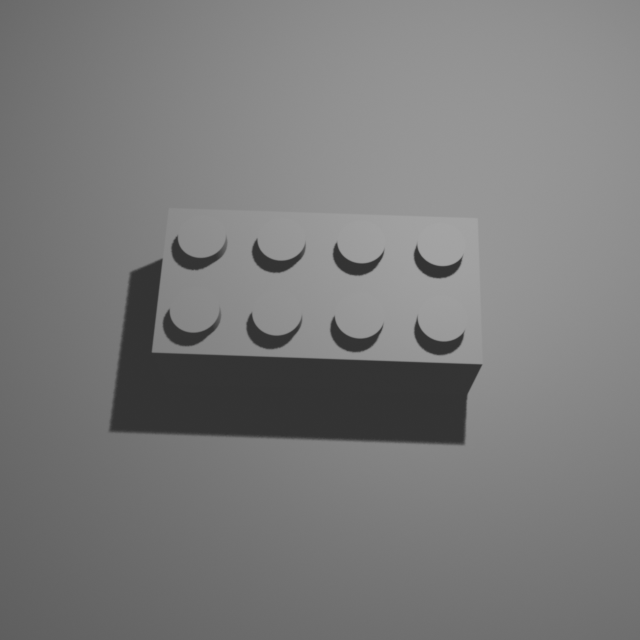lego_2x4: (149, 200, 486, 395)
